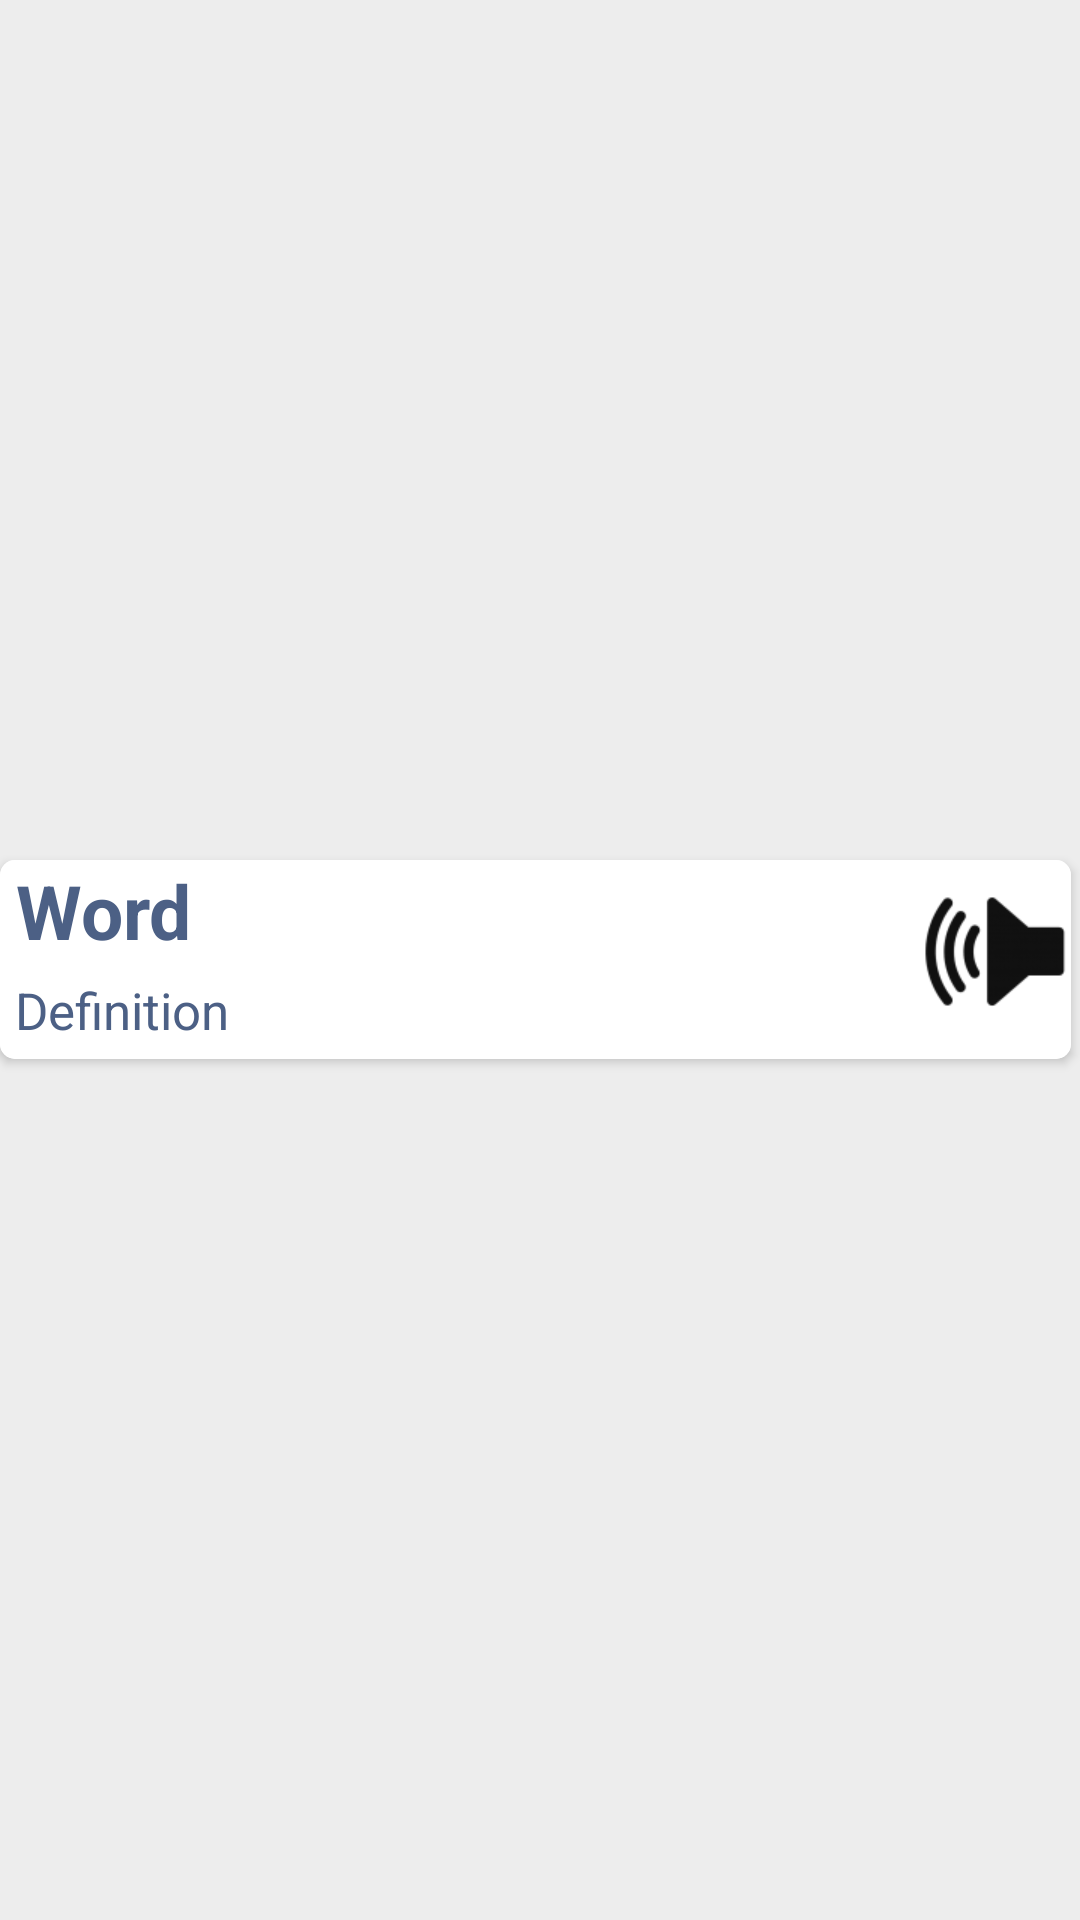

Point at icon controls on the screen. Image size 1080px×1920px, points as point (x, y).
speaker: point (995, 951)
